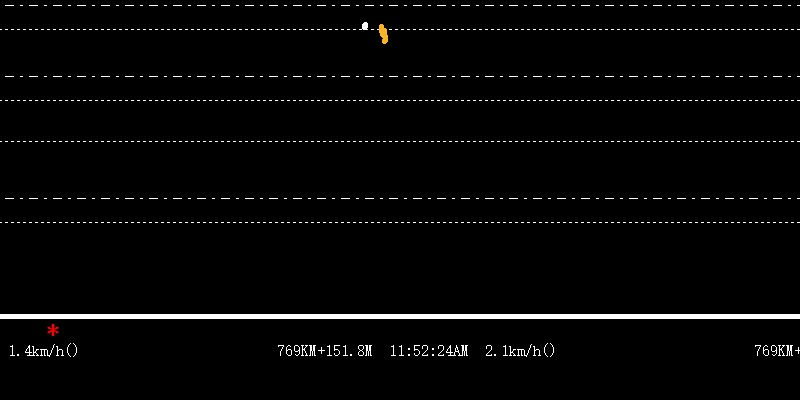face_1: (377, 20, 392, 48), (357, 16, 372, 40)
star: (43, 320, 61, 341)
